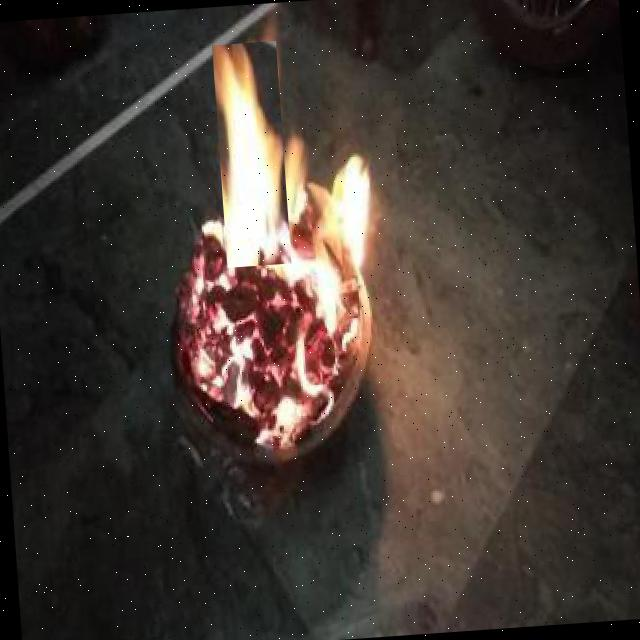fire: (212, 41, 290, 268), (314, 146, 404, 280)
